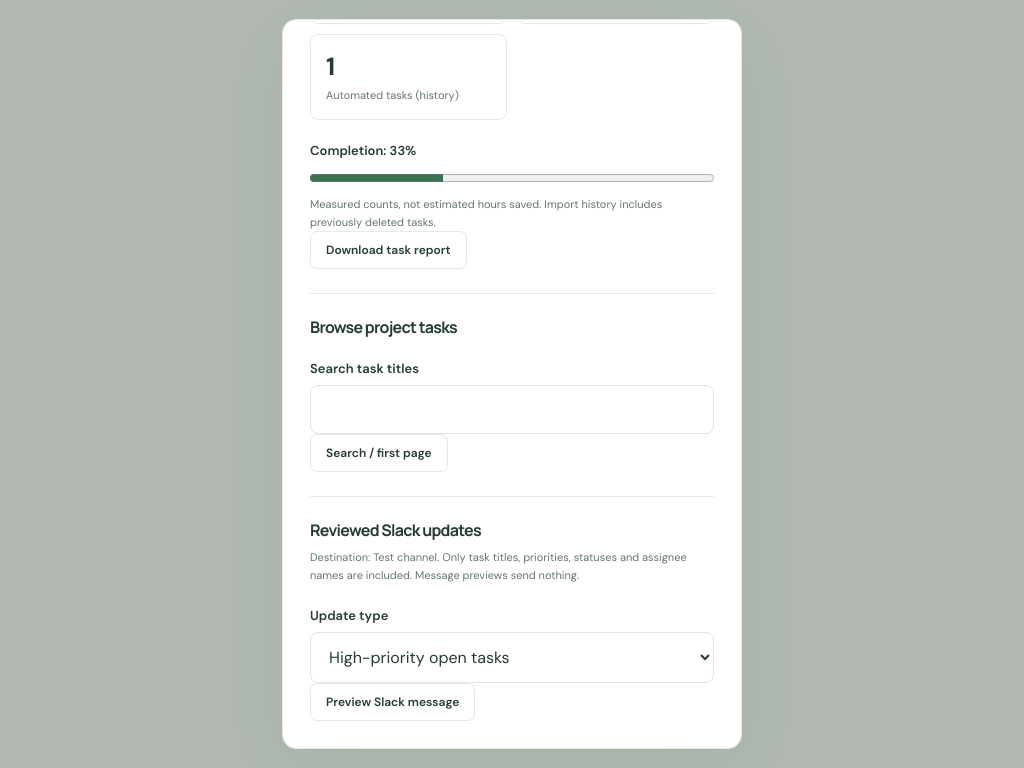
Test: shows measured reports and never sends Slack updates on opening or preview
The image size is (1024, 768).
(page scrolled)
Click the button "Preview Slack message" at (393, 702), box left=310, top=683, right=475, bottom=721
(page scrolled)
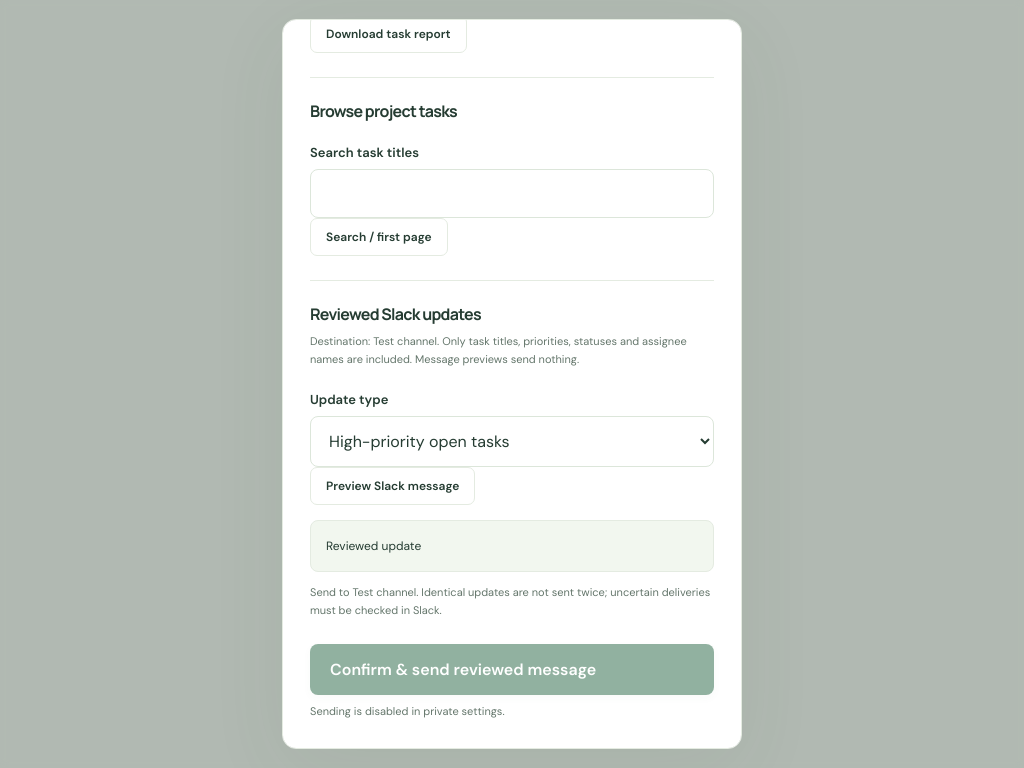
Expected: the text "Reviewed update" is shown, left=310, top=520, right=714, bottom=572
Expected: the button "Confirm & send reviewed message" is disabled, left=310, top=644, right=714, bottom=695
